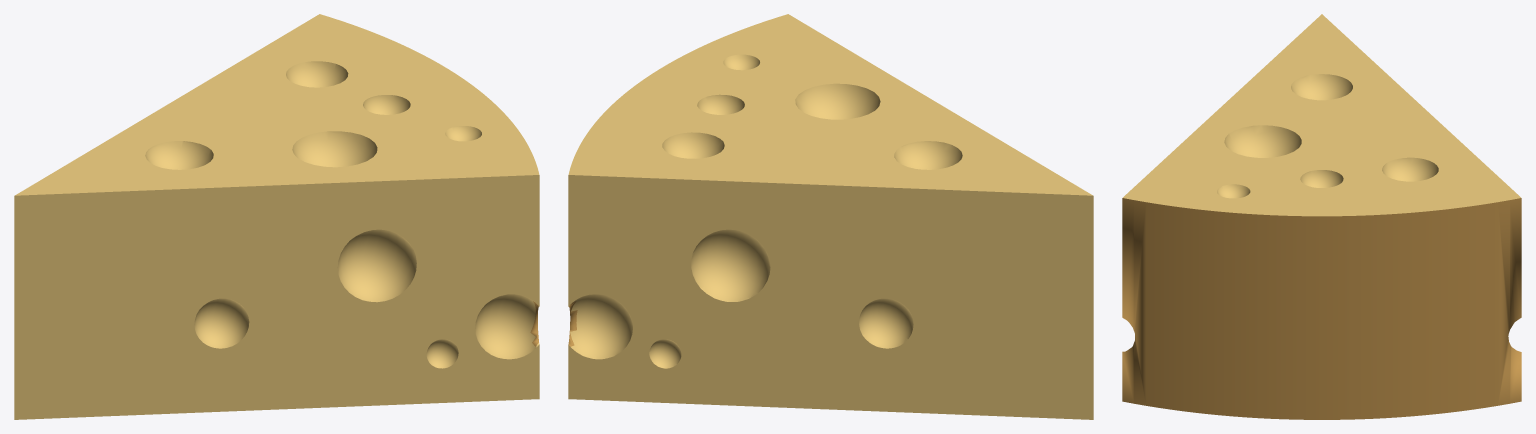
3 views of the same model, side by side, from view 1: azimuth 30°, elevation 25°; view 2: azimuth 150°, elevation 25°; view 3: azimuth 270°, elevation 25° (orthographic). The views are drawn at different scales.
Visible parts, largest first — view 1: NEW307_SwissCheese_LOD1; view 2: NEW307_SwissCheese_LOD1; view 3: NEW307_SwissCheese_LOD1.
Boxes of the visible parts, x1=… form: NEW307_SwissCheese_LOD1: x1=14, y1=14, x2=539, y2=419; NEW307_SwissCheese_LOD1: x1=568, y1=14, x2=1093, y2=419; NEW307_SwissCheese_LOD1: x1=1122, y1=14, x2=1521, y2=419.
Size of the model in its own units: 0.13 by 0.061 by 0.1084.
